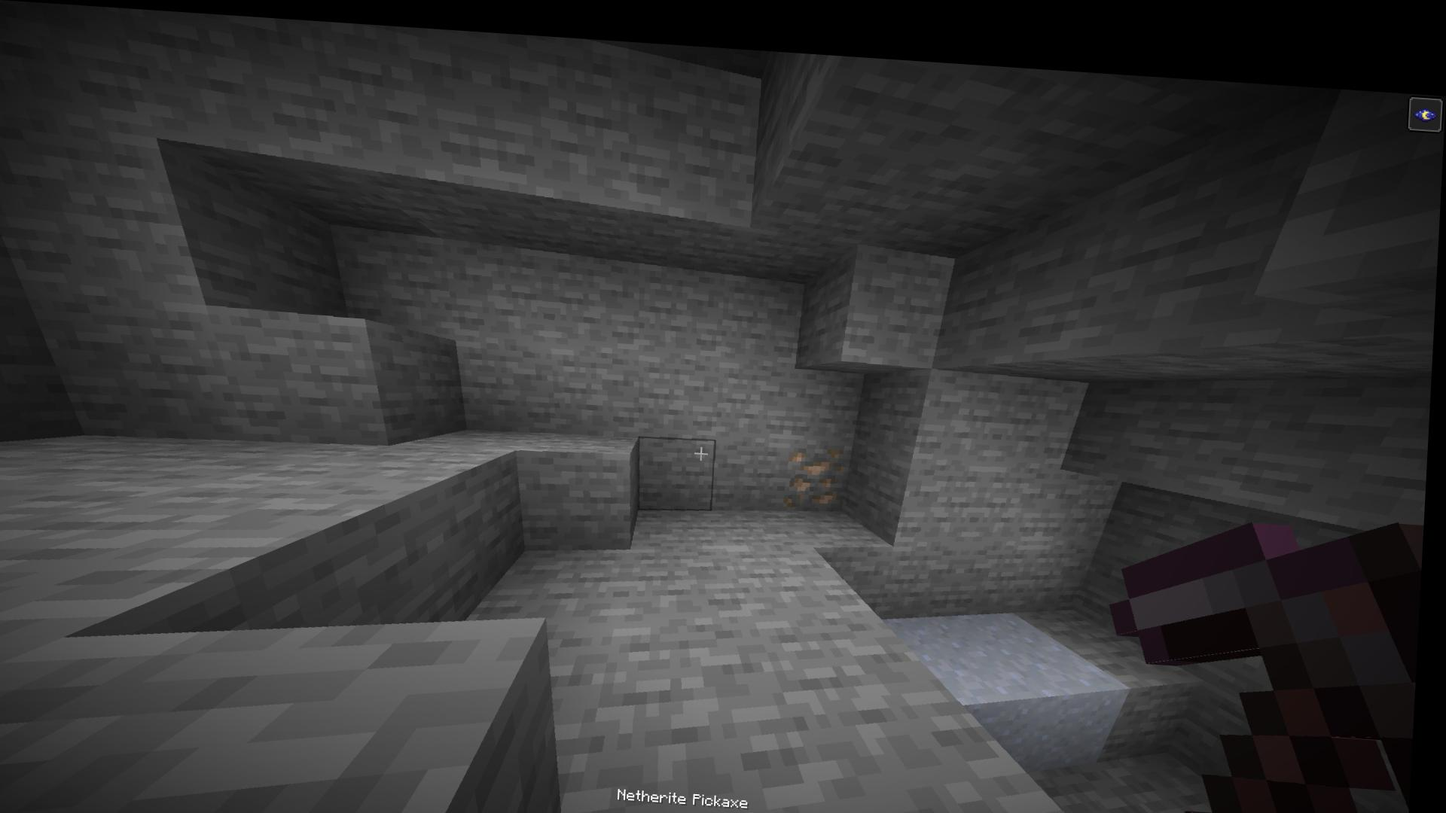iron ore: (786, 429, 856, 499)
